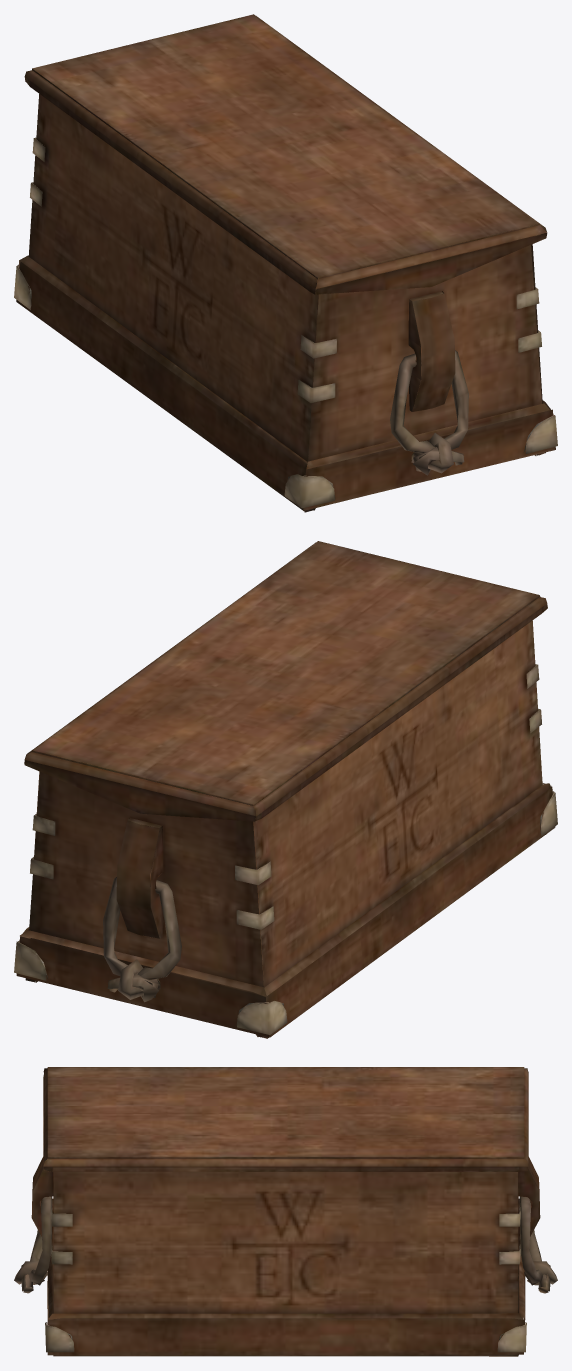
File: crate_wood_02.glb
3 renders of one model, top to bottom at view 1: azimuth 30°, elevation 25°; view 2: azimuth 150°, elevation 25°; view 3: azimuth 270°, elevation 25°, orthographic. The views are drawn at different scales.
Parts seen in each view (by area): view 1: crate_wood_02; view 2: crate_wood_02; view 3: crate_wood_02.
Boxes of the visible parts, x1,y1,x2,y2 form: crate_wood_02: (14, 14, 557, 512); crate_wood_02: (14, 541, 557, 1038); crate_wood_02: (14, 1067, 557, 1356).
Size of the model in its own units: 0.5705 by 0.5 by 1.26.
Materials: 1 (1 with a texture image).
